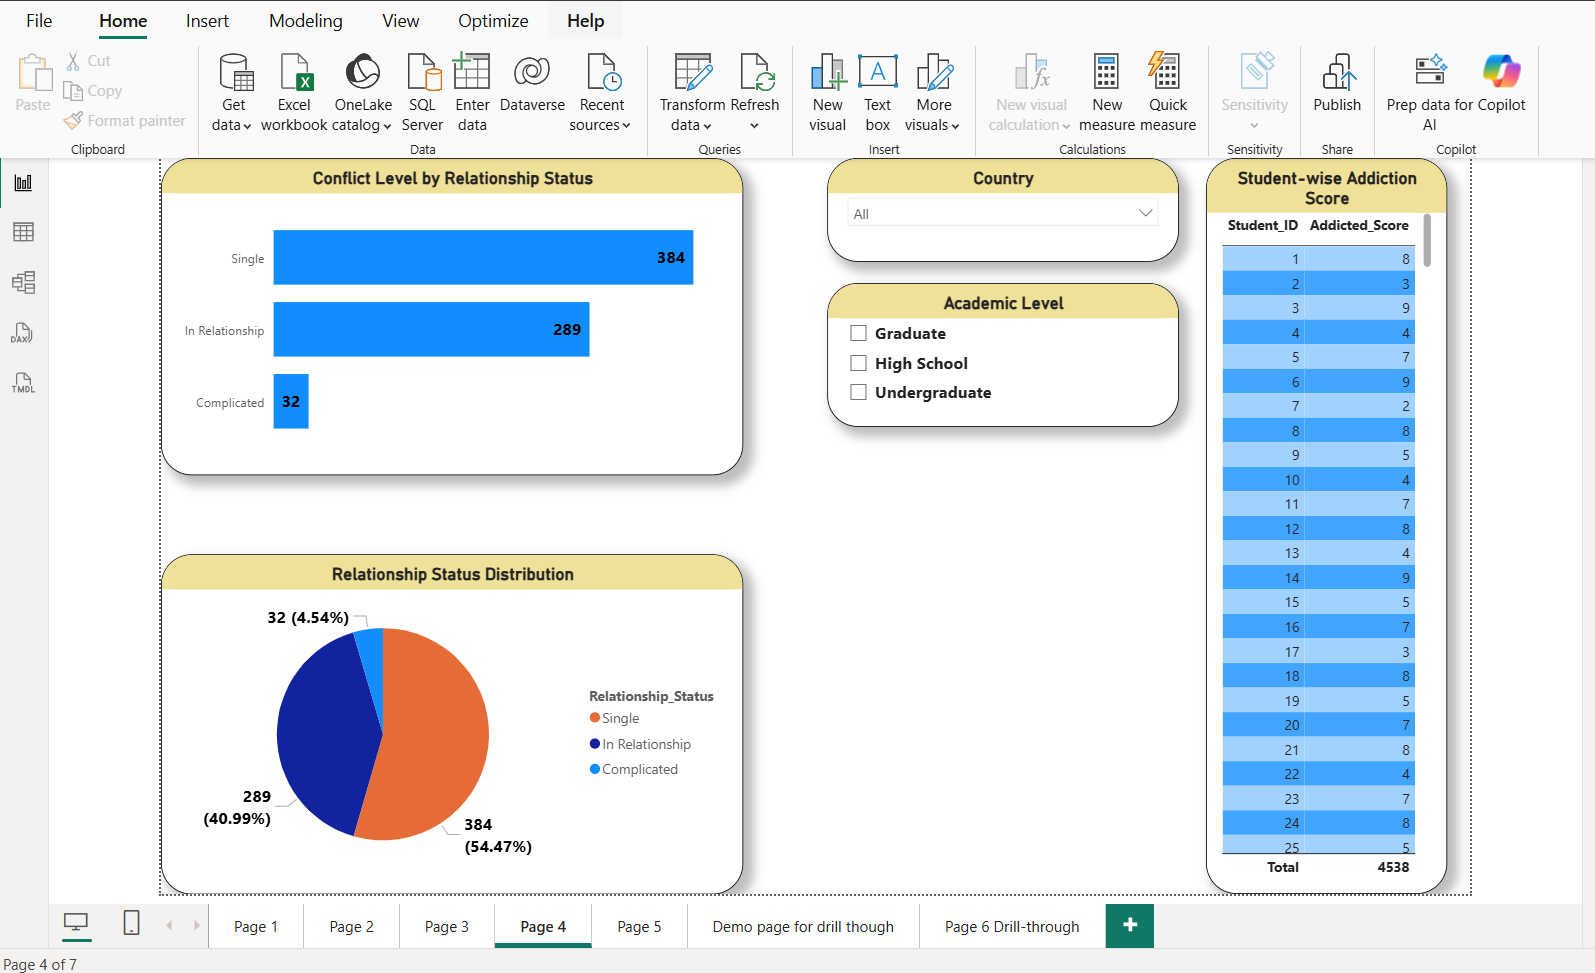

Layout of this report page (visuals, bound fields, positions):
{"tool":"powerbi","page":{"name":"Page 4","canvas":[1280,720],"ordinal":3},"visuals":[{"type":"barChart","title":"Conflict Level by Relationship Status","fields":{"Y":["CountNonNull(Student Details.02 Conflict Level)"],"Category":["Student Details.Relationship_Status"]},"box":[0,0,569.8,310.6],"z":0},{"type":"tableEx","title":"Student-wise Addiction Score","fields":{"Values":["Student Details.Student_ID","Sum(Student Details.Addicted_Score)"]},"box":[1021.9,0,235.9,720.4],"z":1000},{"type":"pieChart","title":"Relationship Status Distribution","fields":{"Category":["Student Details.Relationship_Status"],"Y":["CountNonNull(Student Details.Relationship_Status)"]},"box":[0,387.6,569.8,332.6],"z":2000},{"type":"slicer","title":"Country","fields":{"Values":["Student Details.Country"]},"box":[651.8,0,343.6,101.5],"z":3000},{"type":"slicer","title":"Academic Level","fields":{"Values":["Student Details.Academic_Level"]},"box":[651.8,122.3,343.6,140.6],"z":4000}]}

Visuals, with their boxes on the page's 1280x720 design canvas (x1, y1, x2, y2). These are canvas units, not pixel positions in the 1595x973 screenshot, which may show the page scaled, cropped or inside an application window:
"Conflict Level by Relationship Status" barChart: [x1=0, y1=0, x2=570, y2=311]
"Student-wise Addiction Score" tableEx: [x1=1022, y1=0, x2=1258, y2=720]
"Relationship Status Distribution" pieChart: [x1=0, y1=388, x2=570, y2=720]
"Country" slicer: [x1=652, y1=0, x2=995, y2=102]
"Academic Level" slicer: [x1=652, y1=122, x2=995, y2=263]
